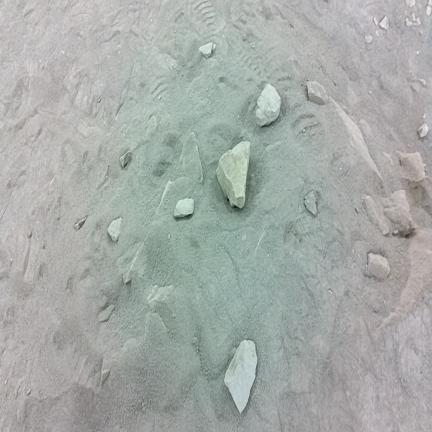Rock: (330, 98, 382, 183), (225, 340, 257, 412), (217, 142, 250, 208), (383, 190, 416, 236), (362, 194, 389, 235), (180, 133, 202, 182), (256, 84, 280, 126), (397, 152, 425, 186), (147, 285, 173, 308), (368, 253, 389, 279), (123, 251, 139, 283), (307, 81, 328, 104), (174, 199, 194, 217), (108, 218, 122, 241), (358, 119, 372, 141), (98, 304, 115, 322), (304, 191, 316, 215), (100, 358, 110, 385), (199, 43, 213, 58), (74, 216, 87, 230), (120, 151, 131, 167), (383, 152, 394, 166), (379, 16, 389, 30), (418, 124, 428, 137), (418, 78, 426, 87), (365, 34, 373, 43), (406, 0, 415, 7), (405, 18, 412, 27), (426, 5, 431, 15), (373, 17, 378, 25), (415, 17, 420, 25)
